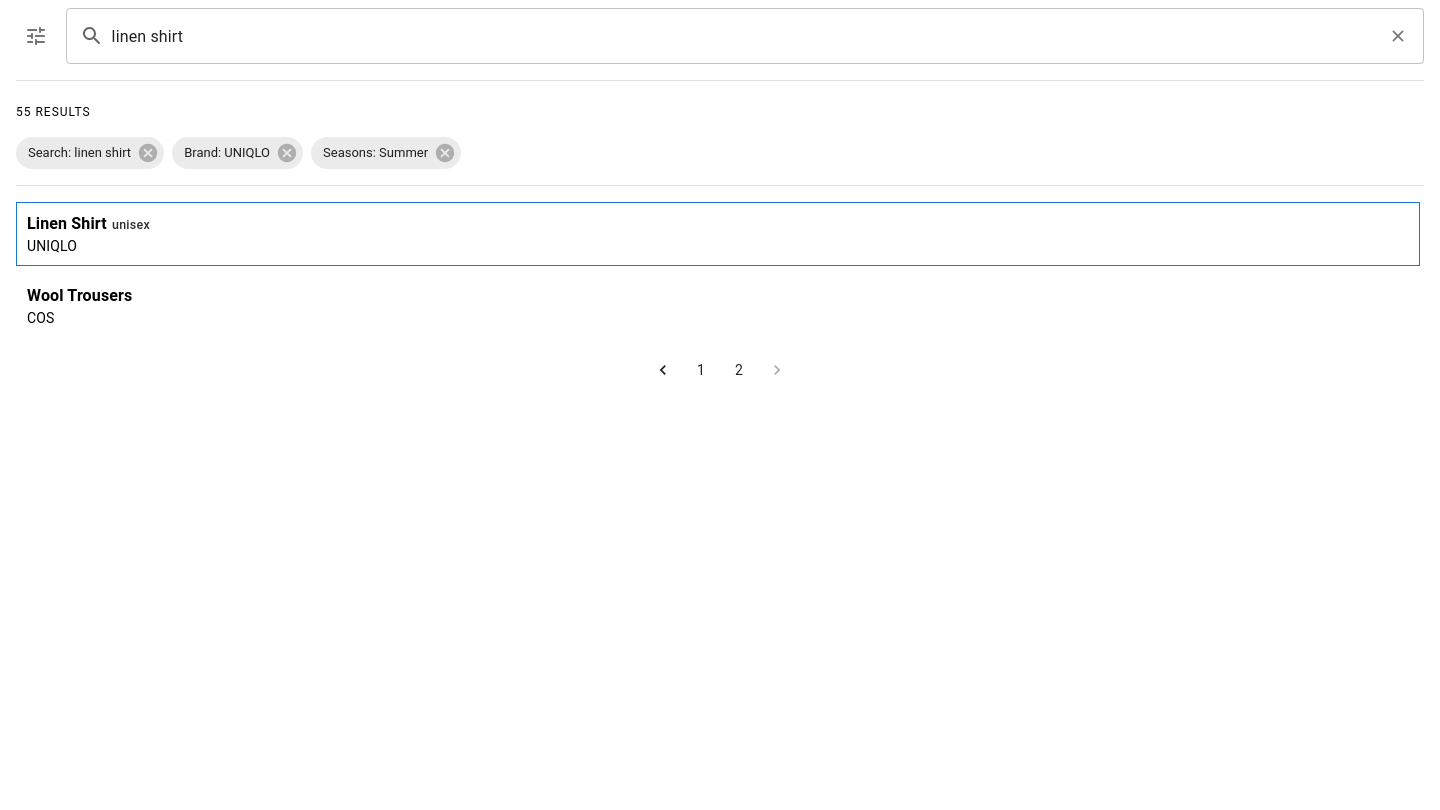
Test case: SearchScreen › mobile composition opens filters and product detail
Expected: the field showing "linen shirt" is shown, [112,8,1375,64]
Click the button named "Open filters" at (36, 36), box [16,16,56,56]
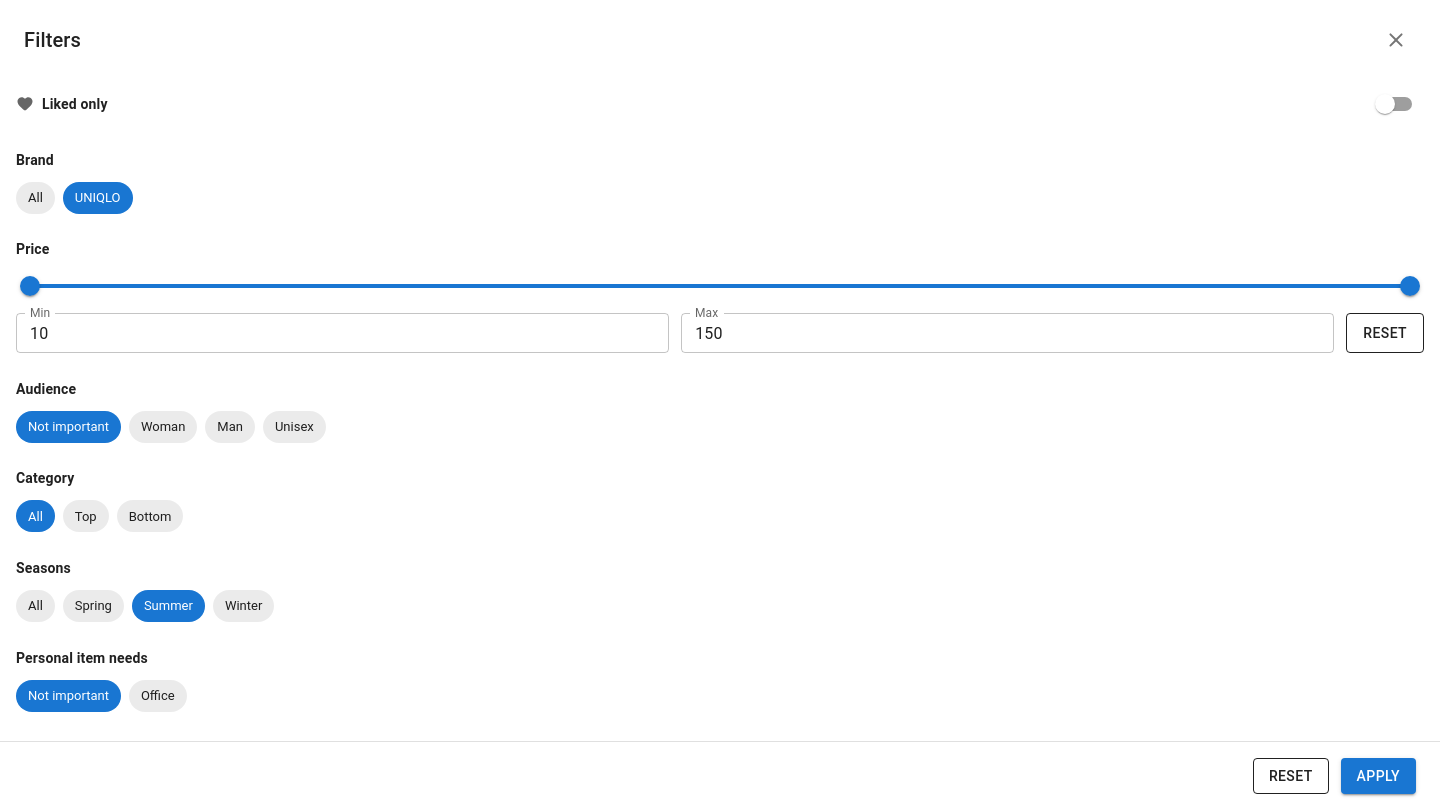
Now the text "Filters" is shown, box [24,24,81,56]
Click the button named "Close filters" at (1396, 40), box [1376,20,1416,60]
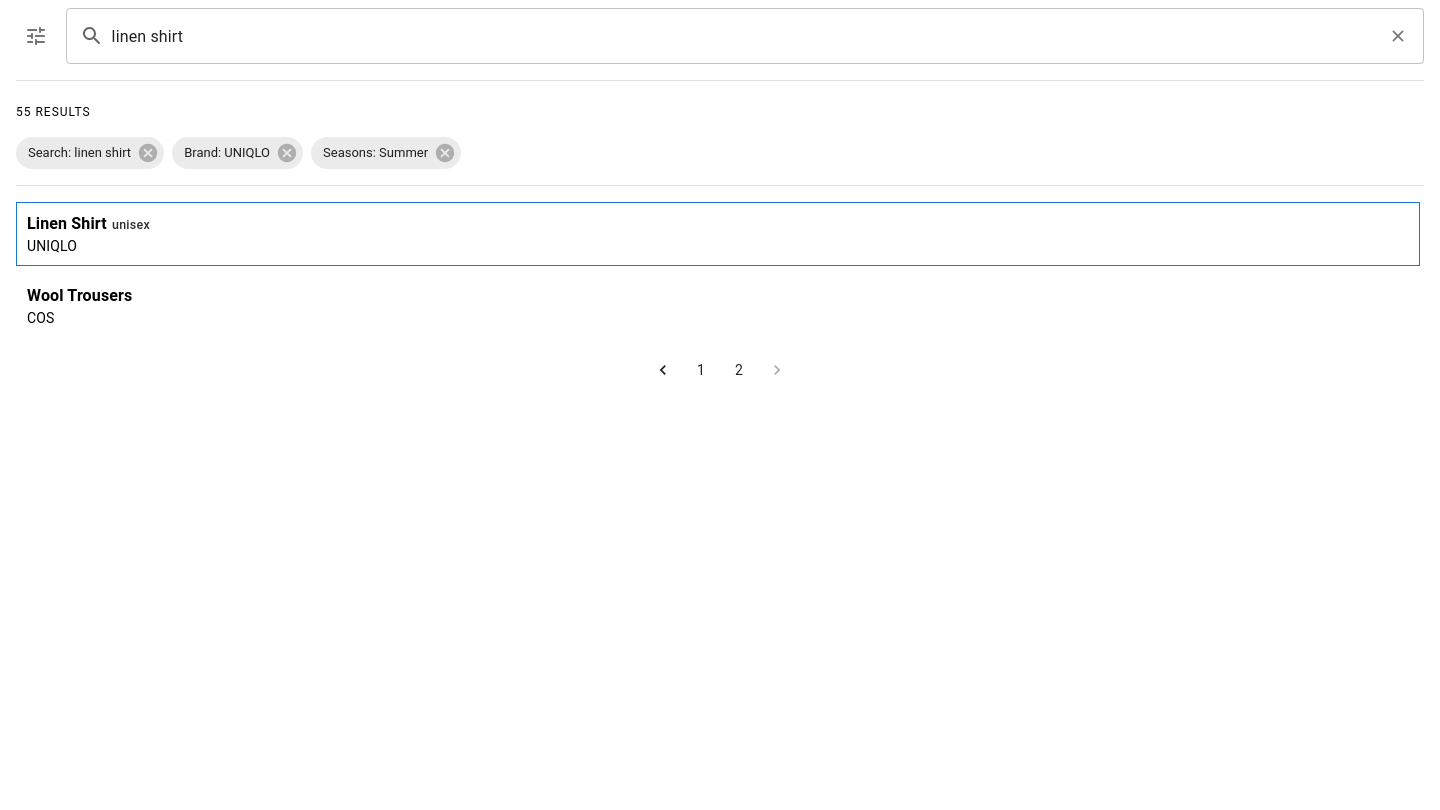
Now the text "Filters" is gone
Click the text "Wool Trousers" at (80, 296), box [27,286,132,305]
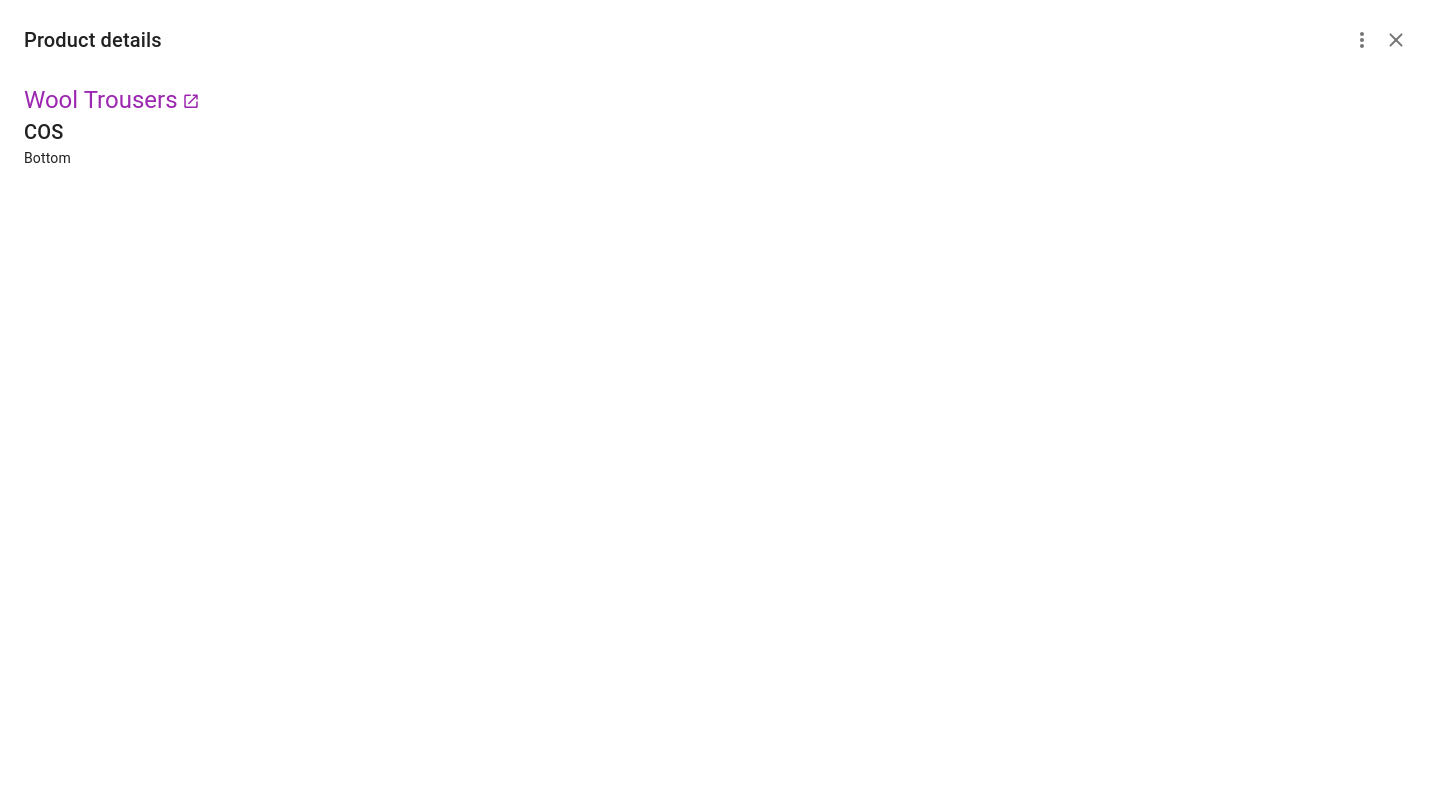
Now the text "Product details" is shown, box [24,28,162,52]
Now the button named "Close" is shown, box [1376,20,1416,60]
